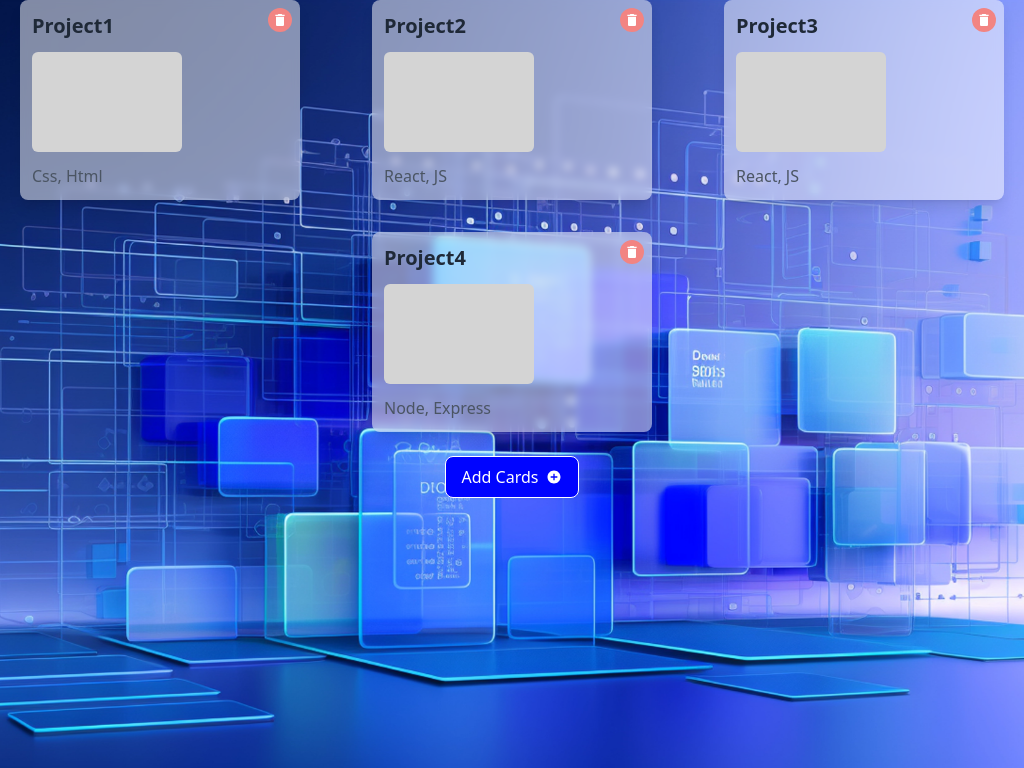
Test: MainContent Component › Successfully adds a new card after form is submitted
Click the button with test id "add-card-button": (512, 477) x1=444 y1=456 x2=580 y2=498
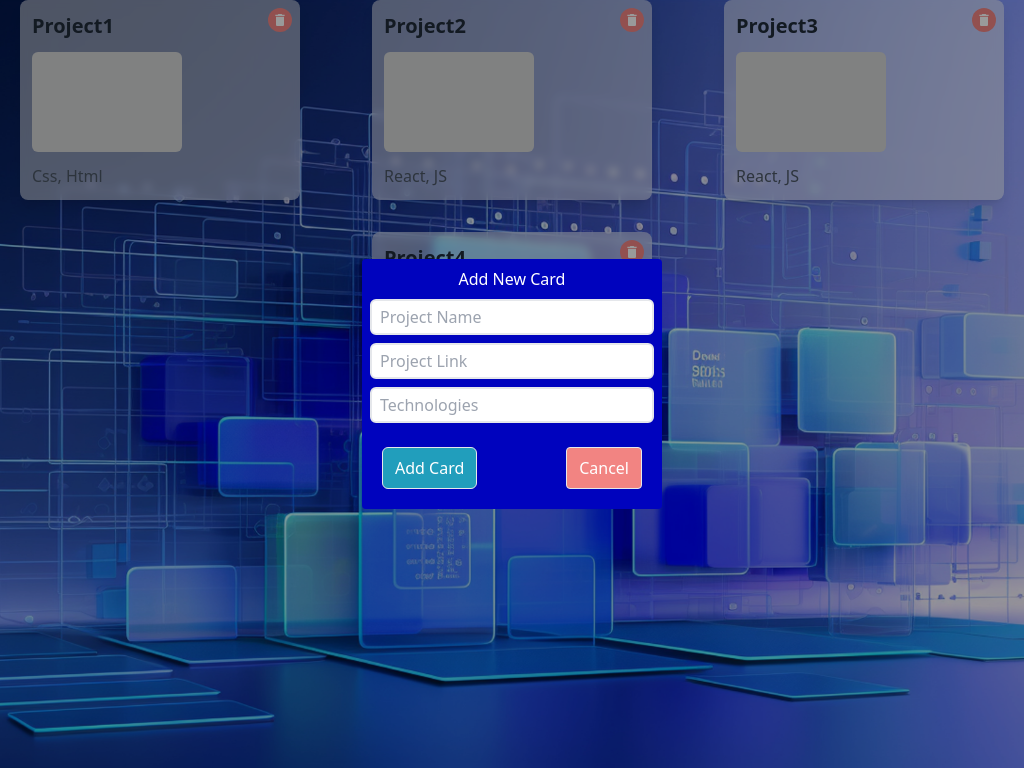
In the field with placeholder "Project Name": (512, 317) x1=370 y1=299 x2=654 y2=335, type "My New Project"
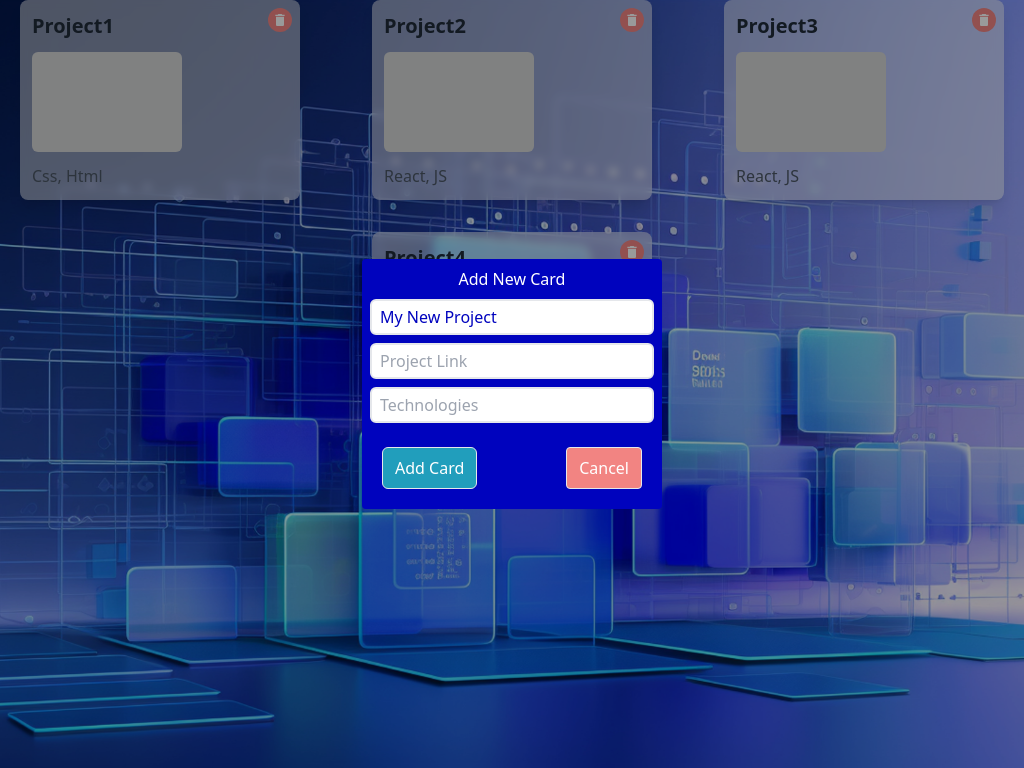
In the field with placeholder "Project Link": (512, 361) x1=370 y1=343 x2=654 y2=379, type "https://newproject.com"
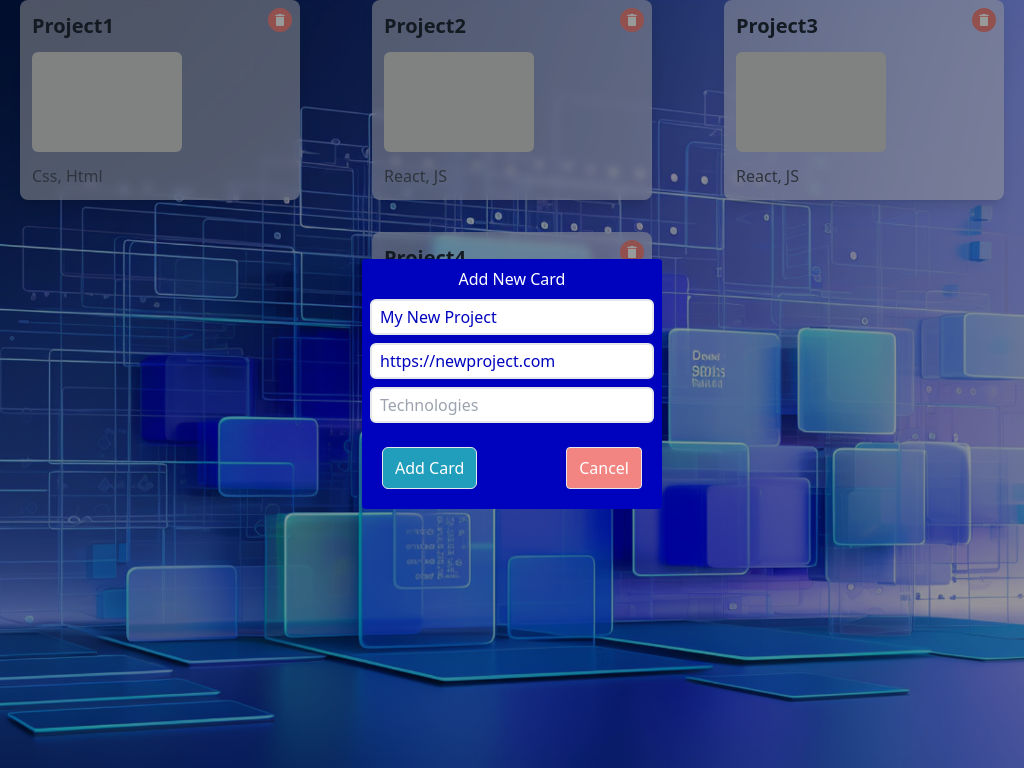
In the field with placeholder "Technologies": (512, 405) x1=370 y1=387 x2=654 y2=423, type "HTML, CSS"
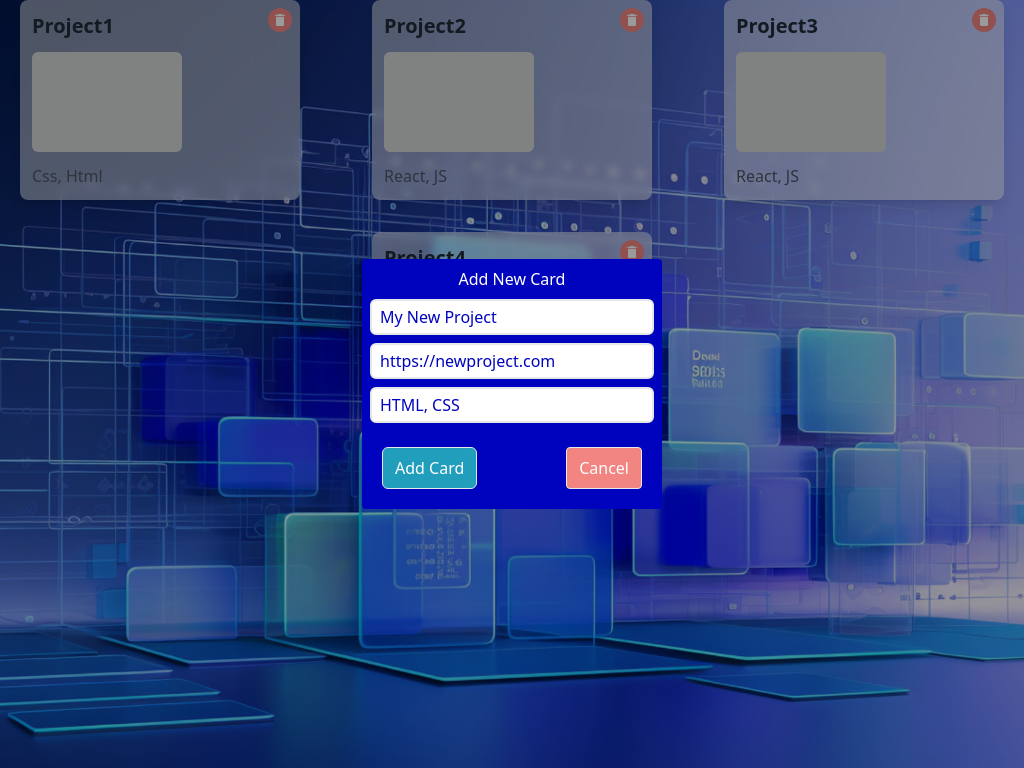
Click the button "Add Card": (430, 468) x1=382 y1=447 x2=477 y2=489
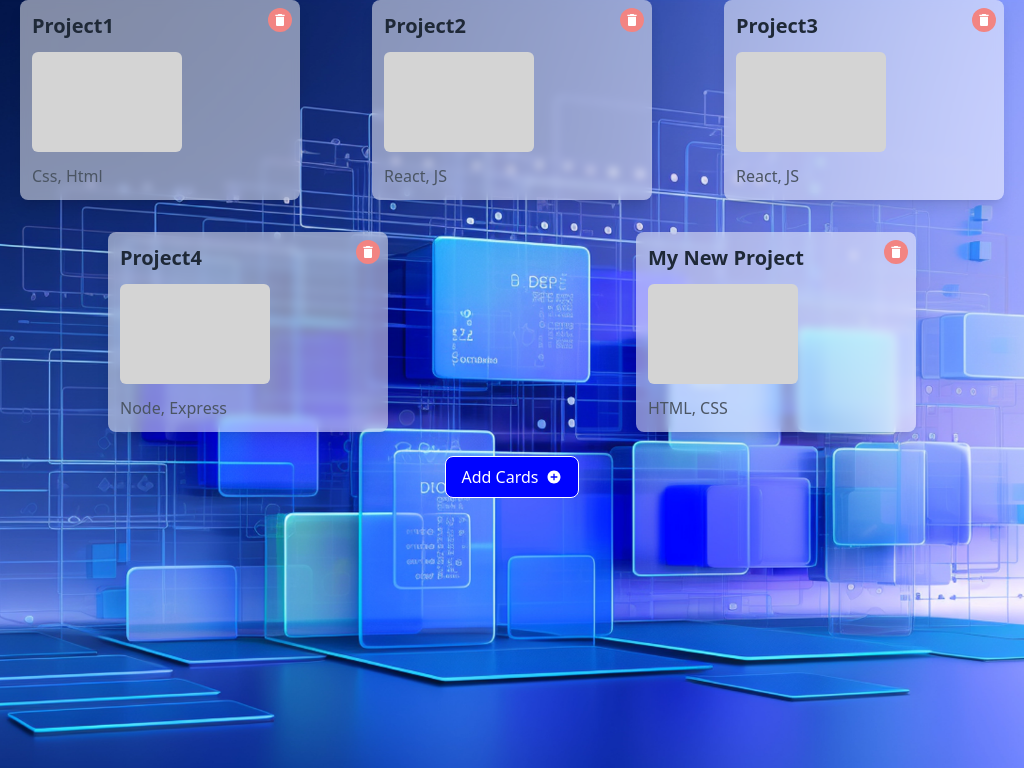
expect the heading "My New Project" is shown: met, box x1=648 y1=244 x2=804 y2=271
